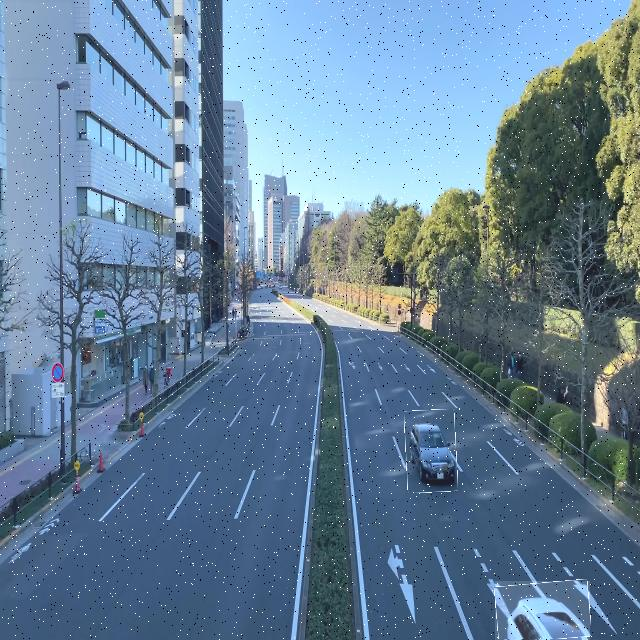Car: (495, 581, 590, 640), (405, 410, 457, 493)
